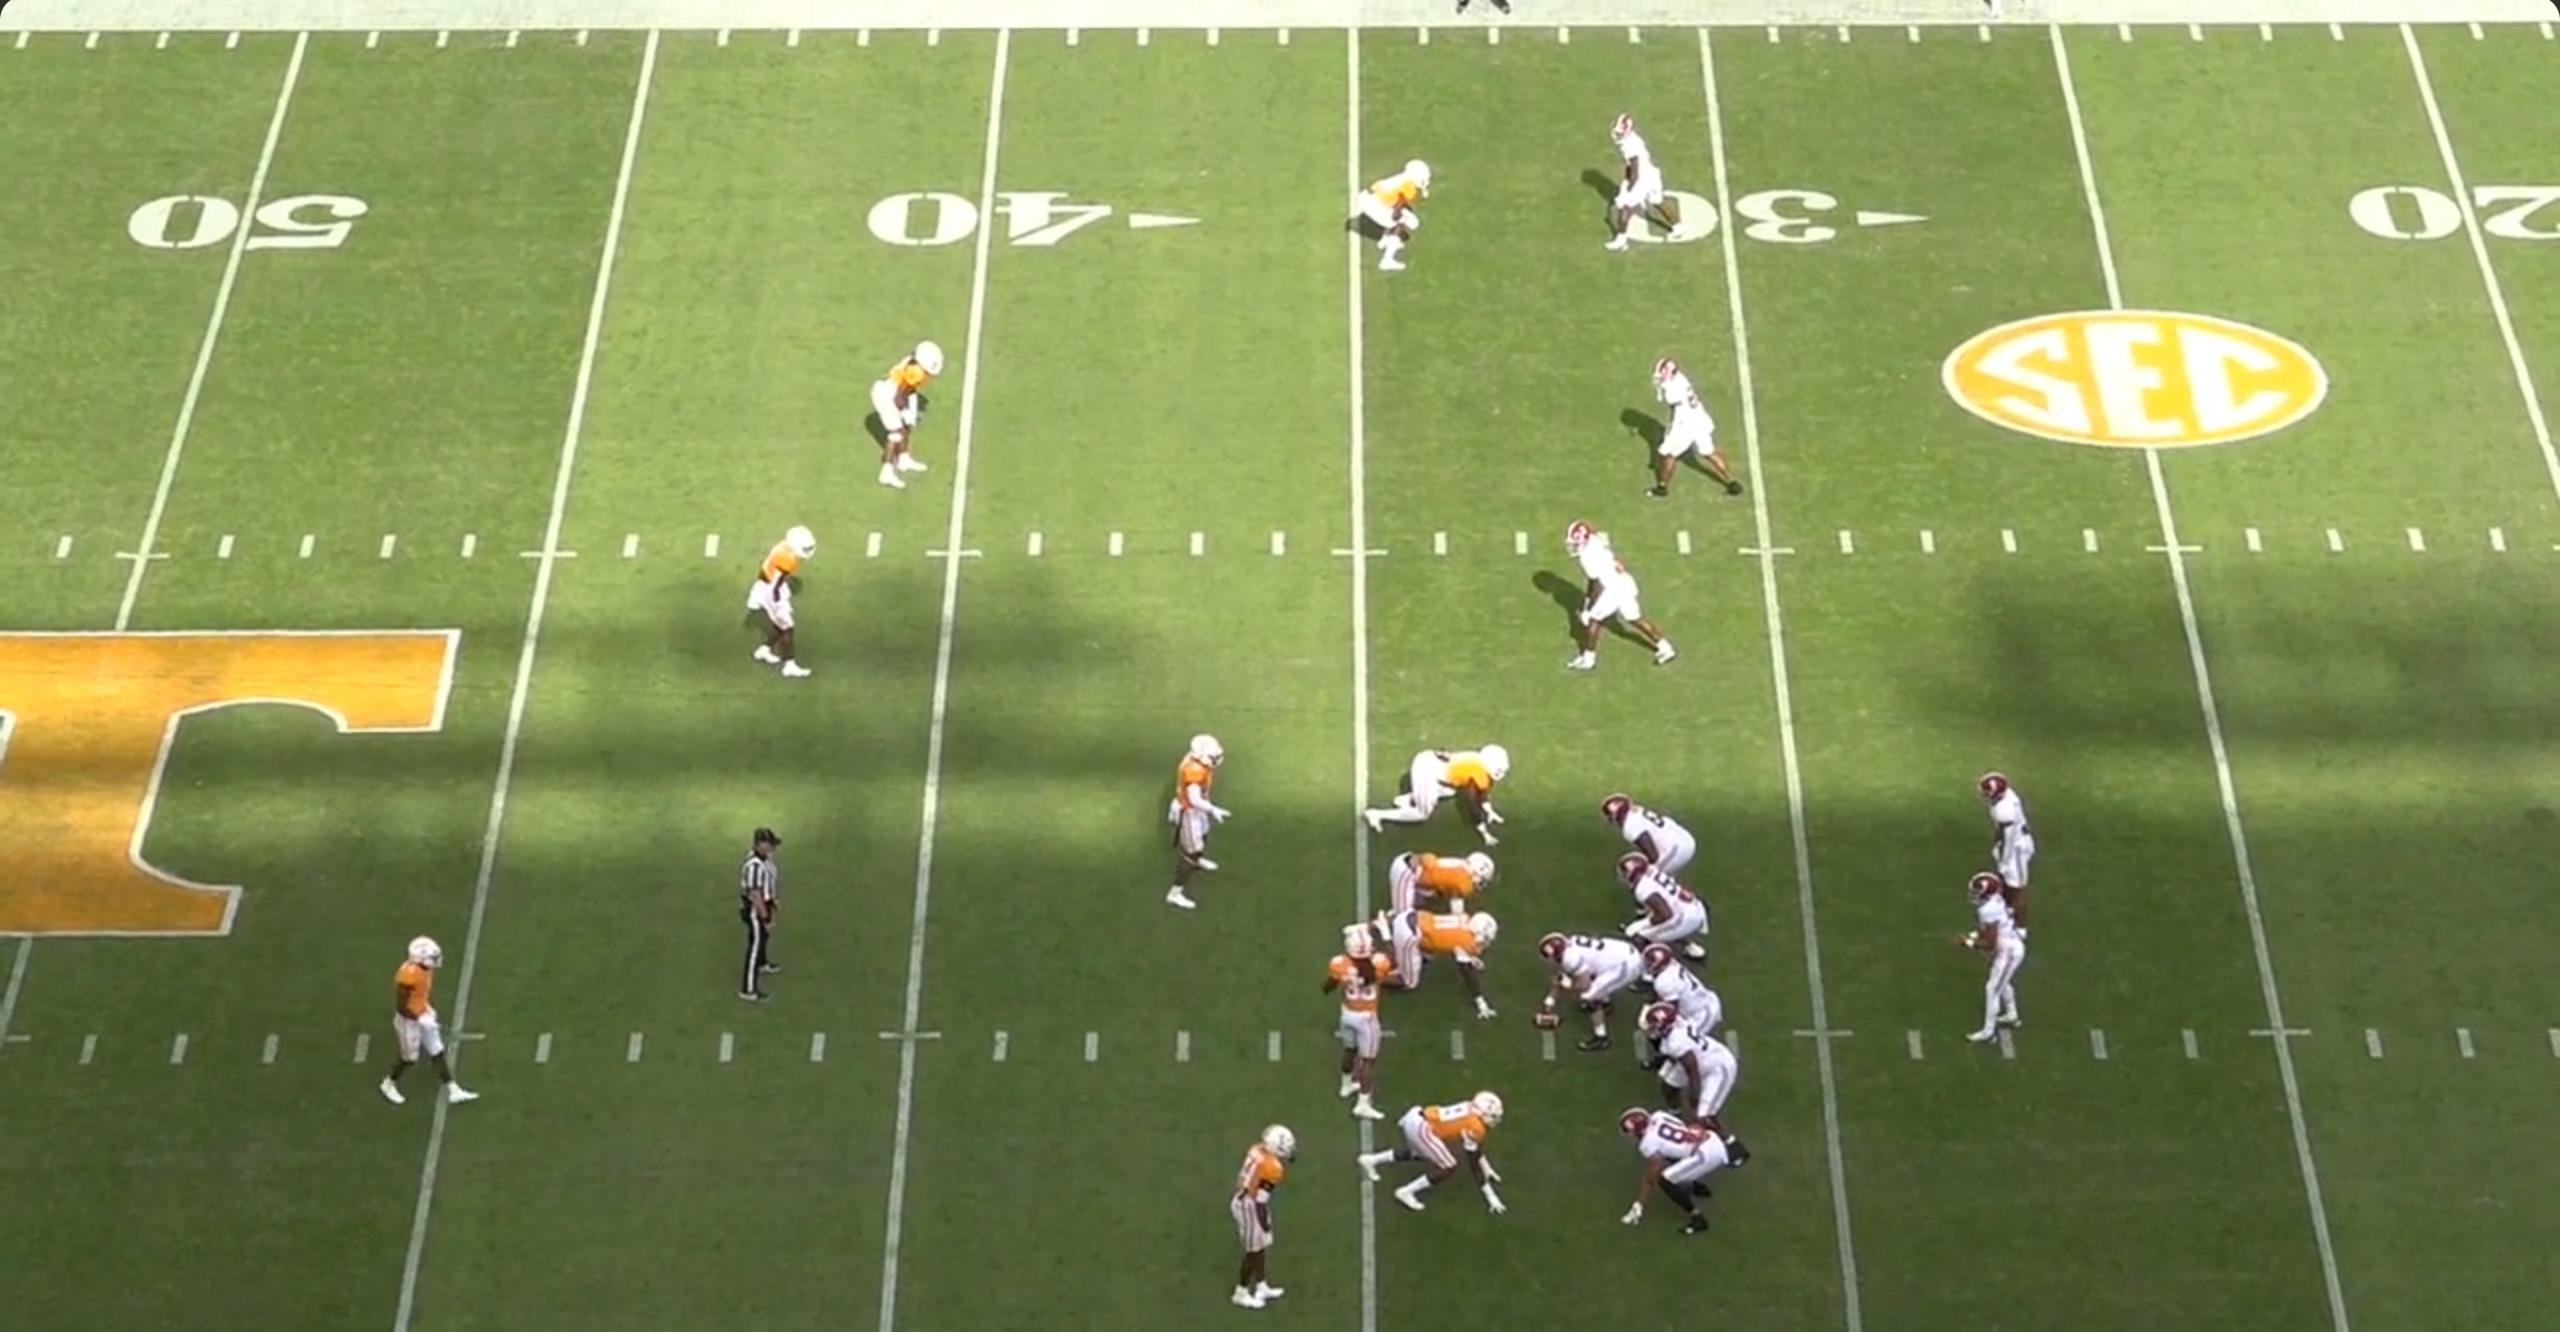defense: (1356, 1083, 1510, 1220), (1319, 914, 1415, 1127), (376, 929, 486, 1110), (1228, 1115, 1314, 1313), (1375, 736, 1526, 846), (1158, 729, 1243, 924), (1378, 905, 1514, 1026), (743, 523, 823, 687), (863, 335, 946, 493), (1360, 850, 1497, 944), (1351, 154, 1437, 278)
oline: (1639, 1007, 1747, 1161), (1522, 927, 1649, 1056), (1608, 853, 1710, 971), (1603, 787, 1705, 883), (1630, 951, 1722, 1048)
qb: (1956, 873, 2037, 1056)
ref: (728, 829, 794, 1019)
skill: (1556, 515, 1693, 677), (1608, 1109, 1742, 1247), (1637, 355, 1747, 509), (1600, 117, 1691, 261), (1971, 768, 2032, 921)
